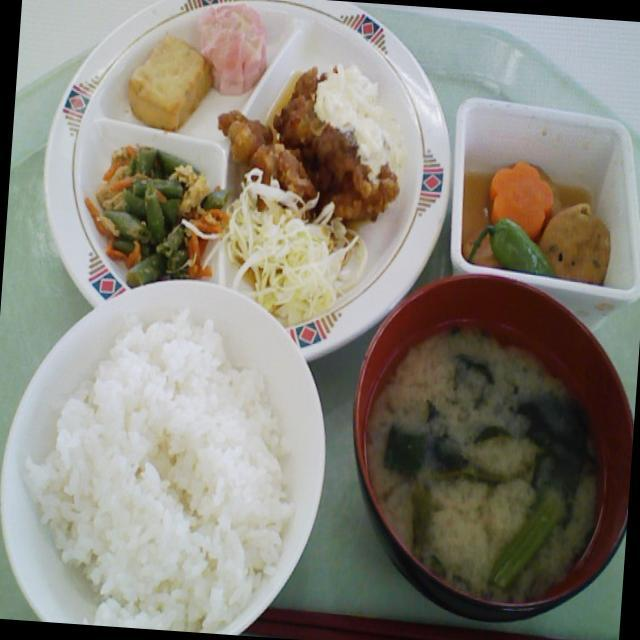Rice: (36, 320, 322, 632)
